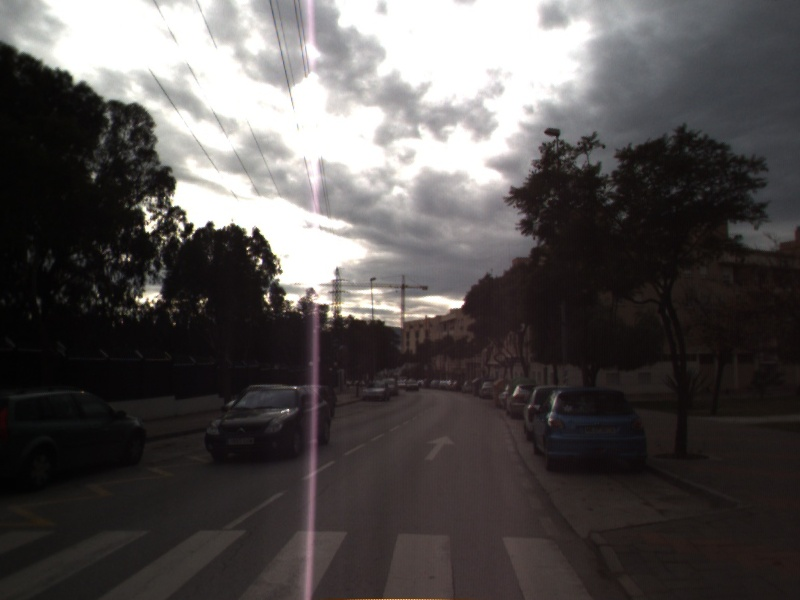STRAIGHT: (422, 433, 458, 463)
